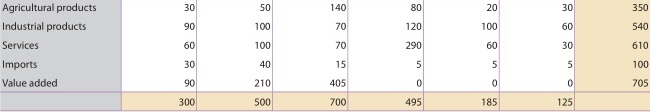column: (1, 1, 97, 111), (179, 1, 196, 111), (329, 1, 346, 111), (405, 1, 422, 111), (632, 1, 649, 111), (255, 2, 271, 112), (481, 1, 497, 111), (558, 1, 574, 111)
row: (1, 77, 650, 88), (1, 40, 650, 50), (1, 21, 649, 31), (1, 60, 650, 69), (1, 3, 649, 12), (1, 98, 650, 106)
